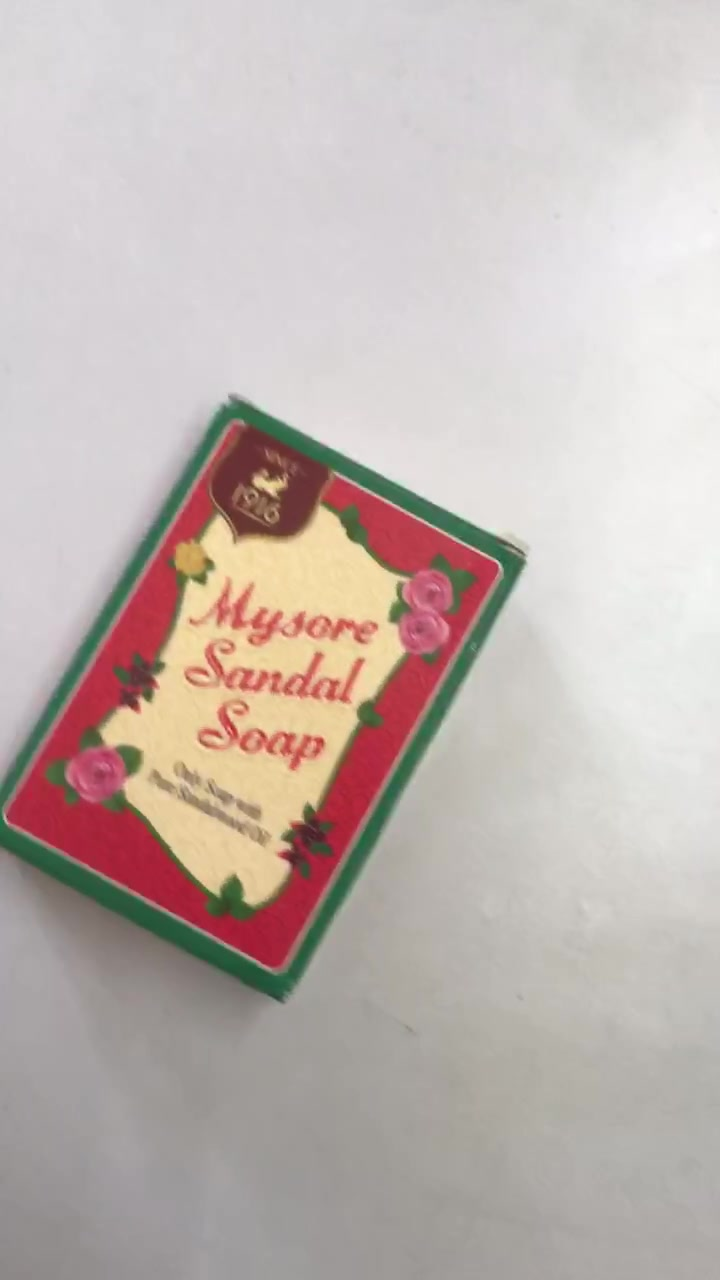mysore sandal soap: (1, 397, 526, 1003)
